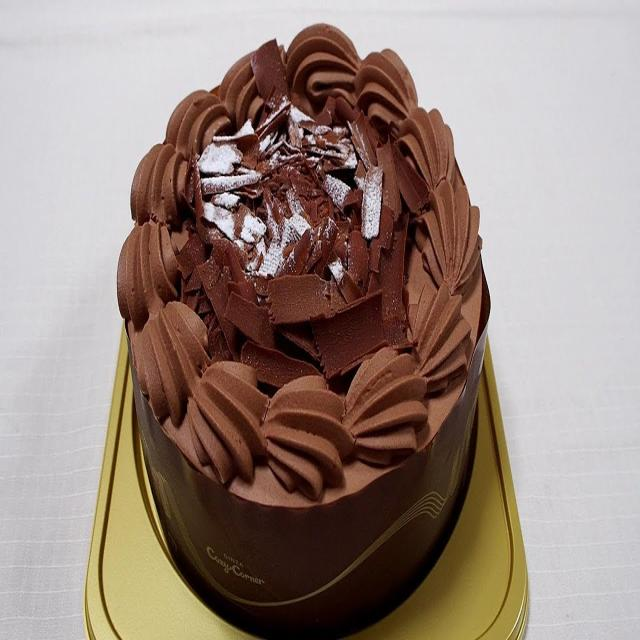chocolatecake: (116, 21, 490, 505)
